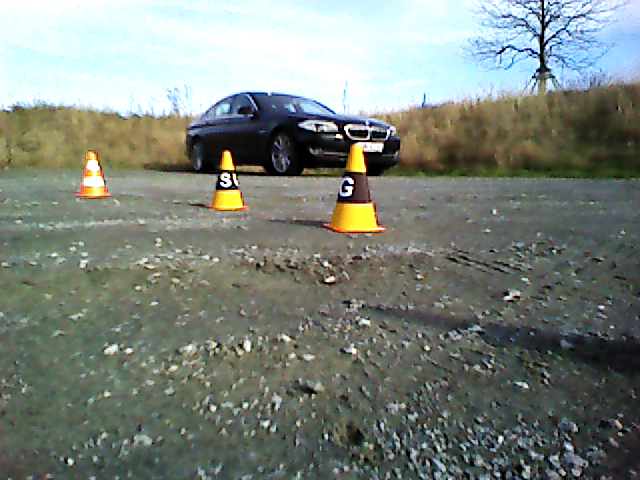orangeconesmall: (78, 151, 107, 197)
yellowcone: (332, 146, 375, 229), (212, 150, 243, 207)
